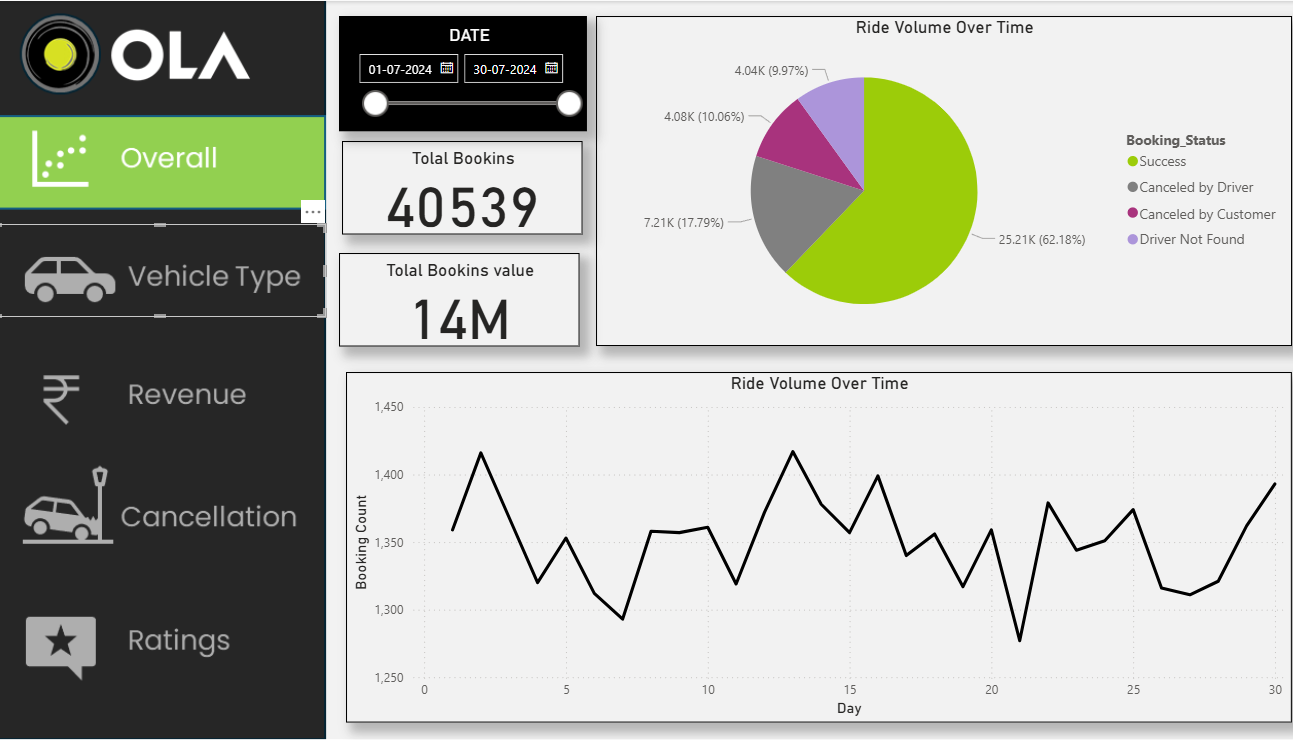

This screenshot's page, from the dashboard's own definition file:
{"tool":"powerbi","page":{"name":"Overall","canvas":[1280,720],"ordinal":0},"visuals":[{"type":"actionButton","box":[0,217.2,323.6,90.4],"z":0},{"type":"lineChart","title":"Ride Volume Over Time","fields":{"Y":["CountNonNull(July.Booking_ID)"],"Category":["July.Date.Variation.Date Hierarchy.Year","July.Date.Variation.Date Hierarchy.Quarter","July.Date.Variation.Date Hierarchy.Month","July.Date.Variation.Date Hierarchy.Day"]},"box":[343.3,360.5,919.5,340.8],"z":1000},{"type":"pieChart","title":"Ride Volume Over Time","fields":{"Y":["CountNonNull(July.Booking_Status)"],"Category":["July.Booking_Status"]},"box":[586.1,15.1,676.6,321],"z":2000},{"type":"slicer","title":"DATE","fields":{"Values":["July.Date"]},"box":[336.1,15.1,241.2,111.7],"z":3000},{"type":"card","title":"Tolal Bookins","fields":{"Values":["CountNonNull(July.Booking_ID)"]},"box":[339.6,136.6,234.1,91.3],"z":4000},{"type":"card","title":"Tolal Bookins value","fields":{"Values":["Sum(July.Booking_Value)"]},"box":[336.1,244.7,234.1,91.3],"z":5000}]}

Visuals, with their boxes in screenshot pixels (x1, y1, x2, y2), scaled from the page's 1280x720 canvas onto the 1293x740 screenshot:
actionButton: bbox(0, 223, 327, 316)
"Ride Volume Over Time" lineChart: bbox(347, 371, 1276, 721)
"Ride Volume Over Time" pieChart: bbox(592, 16, 1276, 345)
"DATE" slicer: bbox(340, 16, 583, 130)
"Tolal Bookins" card: bbox(343, 140, 580, 234)
"Tolal Bookins value" card: bbox(340, 251, 576, 345)
